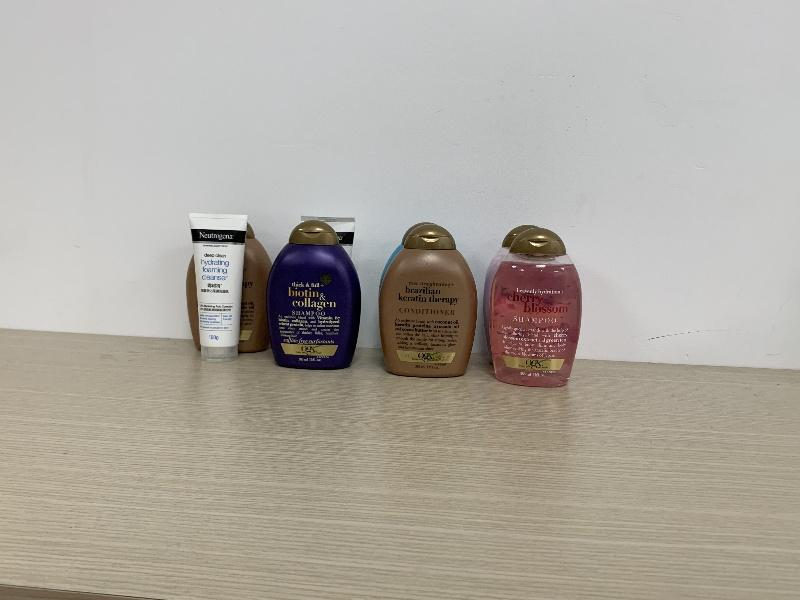BiotinCollagen_Shampoo: (266, 220, 361, 370)
BrazilianKerationTherapy_Conditioner: (379, 224, 477, 378)
CherryBlossom_Shampoo: (489, 228, 581, 388)
HydratingFoamingCleanser: (189, 212, 247, 363)
